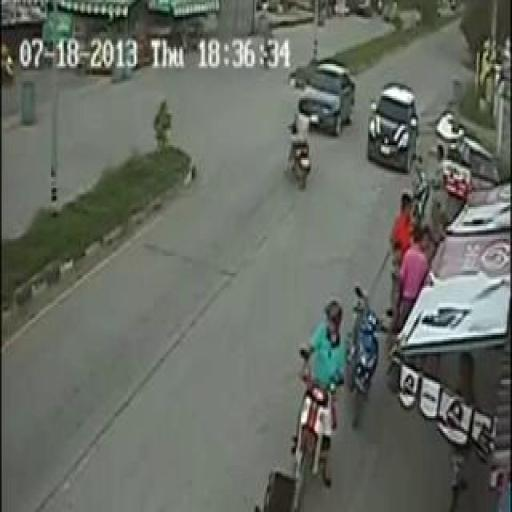Car: (365, 81, 415, 174), (298, 62, 352, 133)
Motor: (289, 356, 341, 507), (347, 289, 379, 423), (284, 122, 314, 188)
Not Accident: (280, 57, 354, 190)
